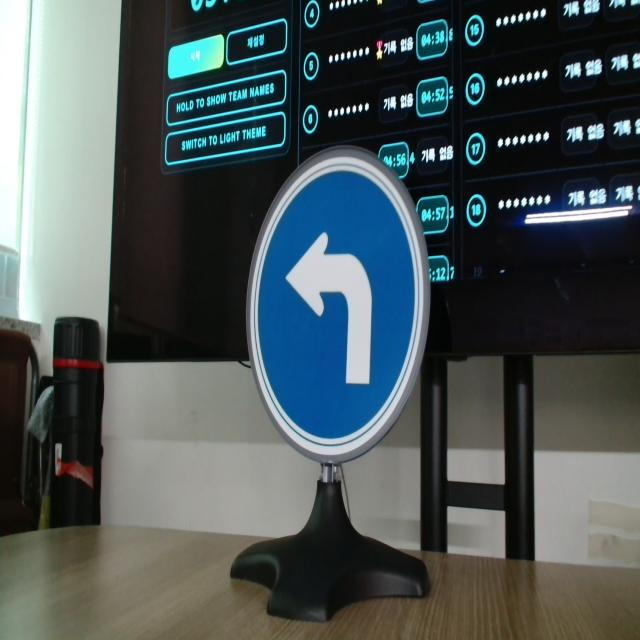left_direction: (234, 126, 464, 495)
